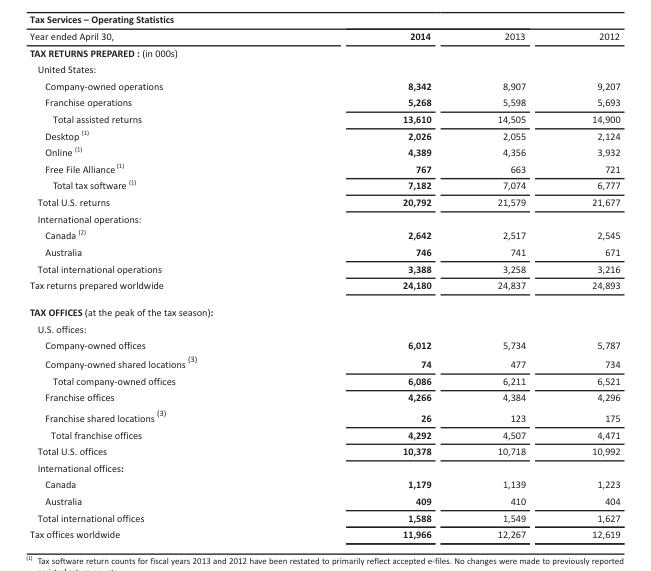table: (28, 29, 619, 539)
table column: (28, 29, 299, 539), (299, 29, 463, 539), (463, 29, 558, 539), (558, 29, 619, 539)
table column header: (28, 29, 619, 43)
table projected row header: (28, 298, 619, 319), (28, 43, 619, 60), (28, 60, 619, 77), (28, 319, 619, 336), (28, 458, 619, 475), (28, 209, 619, 225)
table row: (28, 276, 619, 298), (28, 298, 619, 319), (28, 352, 619, 372), (28, 405, 619, 425), (28, 225, 619, 243), (28, 43, 619, 60), (28, 60, 619, 77), (28, 93, 619, 110), (28, 142, 619, 159), (28, 159, 619, 176), (28, 176, 619, 193), (28, 259, 619, 276), (28, 319, 619, 336), (28, 388, 619, 405), (28, 425, 619, 442), (28, 458, 619, 475), (28, 475, 619, 492), (28, 508, 619, 525), (28, 77, 619, 93), (28, 110, 619, 126), (28, 126, 619, 142), (28, 193, 619, 209), (28, 209, 619, 225), (28, 243, 619, 259), (28, 336, 619, 352), (28, 372, 619, 388), (28, 442, 619, 458), (28, 492, 619, 508), (28, 29, 619, 43), (28, 525, 619, 539)
